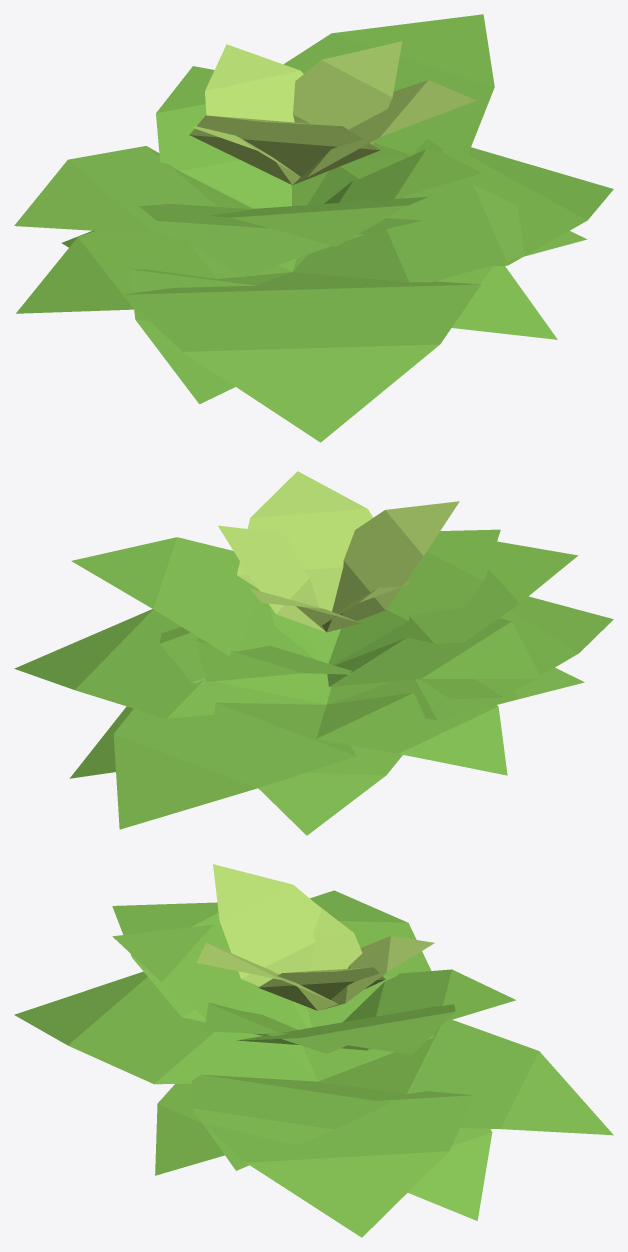
File: lettuce.glb
3 renders of one model, top to bottom at view 1: azimuth 30°, elevation 25°; view 2: azimuth 150°, elevation 25°; view 3: azimuth 270°, elevation 25°, orthographic. The views are drawn at different scales.
Parts seen in each view (by area): view 1: lettuce; view 2: lettuce; view 3: lettuce.
Boxes of the visible parts, x1,y1,x2,y2 form: lettuce: (14,14,613,442); lettuce: (14,471,613,835); lettuce: (14,864,613,1237).
Size of the model in its own units: 0.2976 by 0.1334 by 0.3081.
